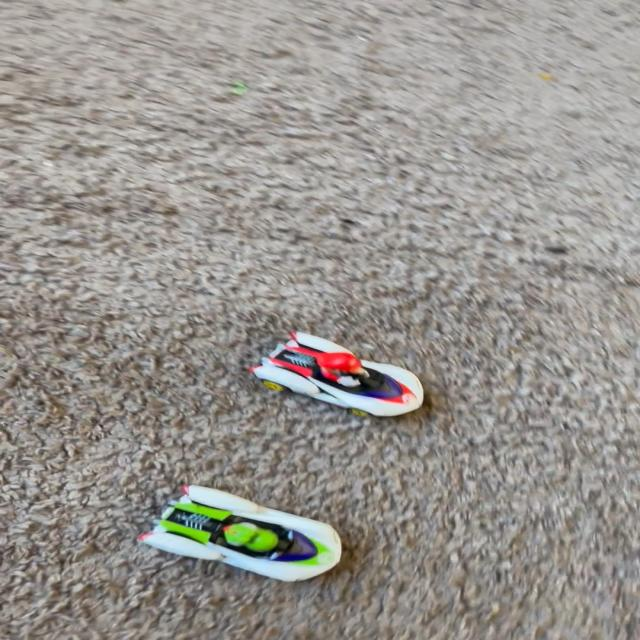mario: (245, 321, 438, 428)
yoshi: (132, 472, 354, 588)
